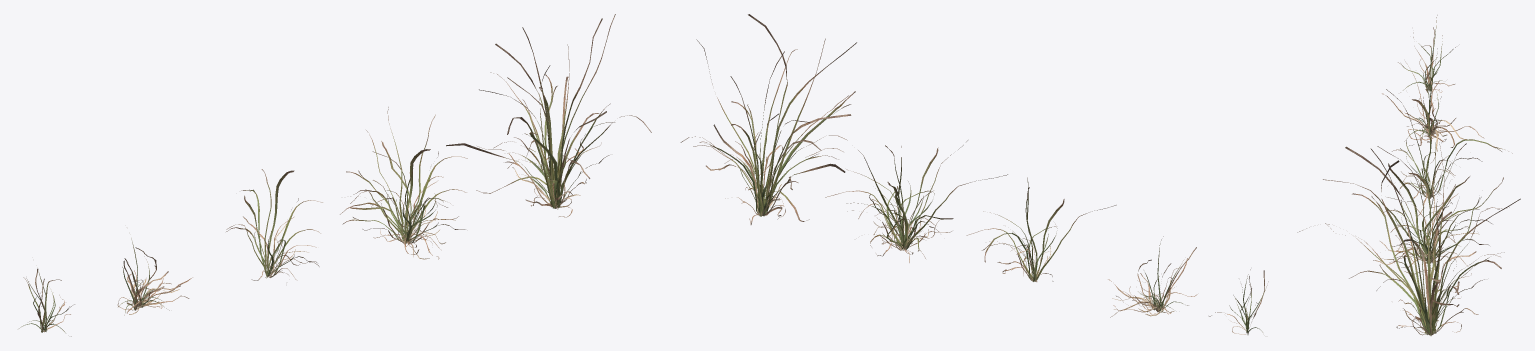
File: grass_medium_02_1k.glb
The picture shows the model from 3 angles, left to right: view 1: azimuth 30°, elevation 25°; view 2: azimuth 150°, elevation 25°; view 3: azimuth 270°, elevation 25°; orthographic projection. The views are drawn at different scales.
Bounding box in the file's own units: 1.31 × 0.4053 × 0.4332.
1 material, 1 textured.
